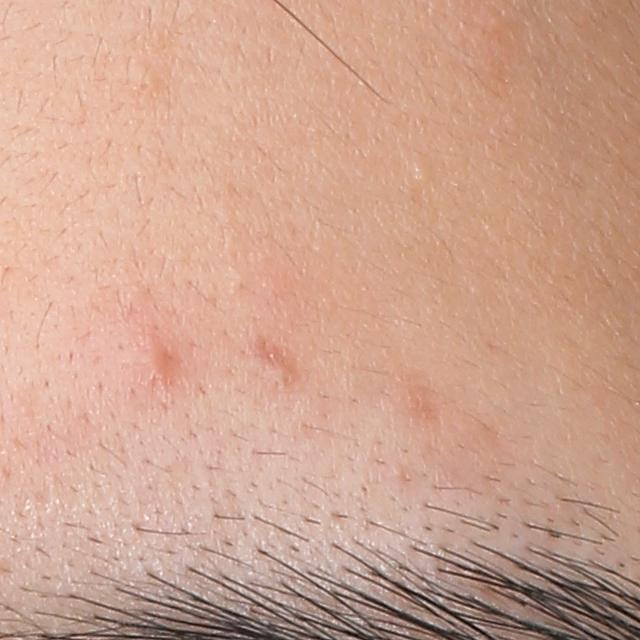comedo: (268, 364, 295, 387), (413, 161, 428, 187)
papule: (143, 331, 177, 390)
